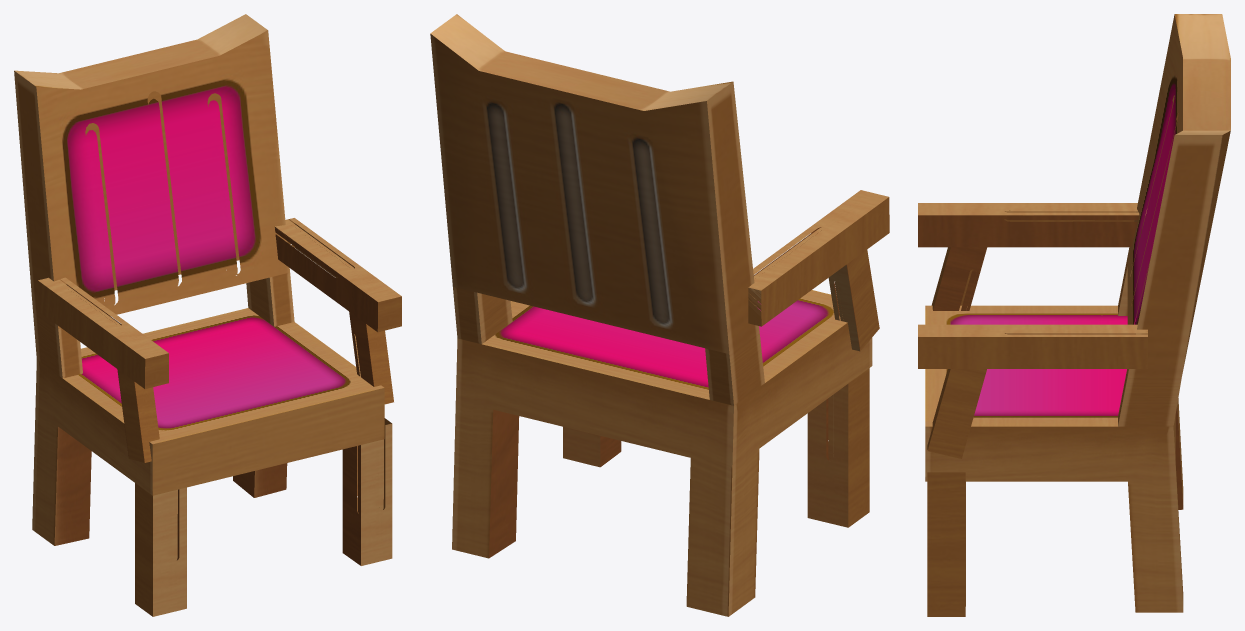
Rendered from chair2.fbx.
The picture shows the model from 3 angles, left to right: view 1: azimuth 30°, elevation 25°; view 2: azimuth 150°, elevation 25°; view 3: azimuth 270°, elevation 25°; orthographic projection. The views are drawn at different scales.
Visible parts, largest first — view 1: char2; view 2: char2; view 3: char2.
Boxes of the visible parts, <box> form: char2: <box>14,14,401,616</box>; char2: <box>430,14,889,616</box>; char2: <box>918,14,1230,616</box>.
Bounding box in the file's own units: 3.74 × 6.22 × 3.68.
